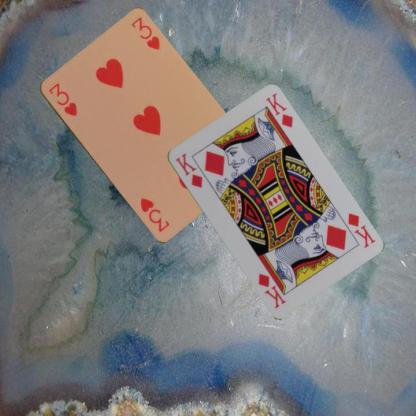3h: (46, 80, 78, 118)
Kd: (344, 210, 377, 249), (172, 150, 204, 189)
